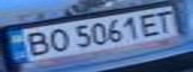0: (90, 20, 109, 46)
1: (121, 15, 142, 40)
5: (69, 21, 93, 50)
6: (106, 16, 127, 43)
B: (18, 29, 54, 57)
E: (136, 10, 166, 37)
O: (42, 26, 72, 53)
T: (151, 8, 181, 34)
